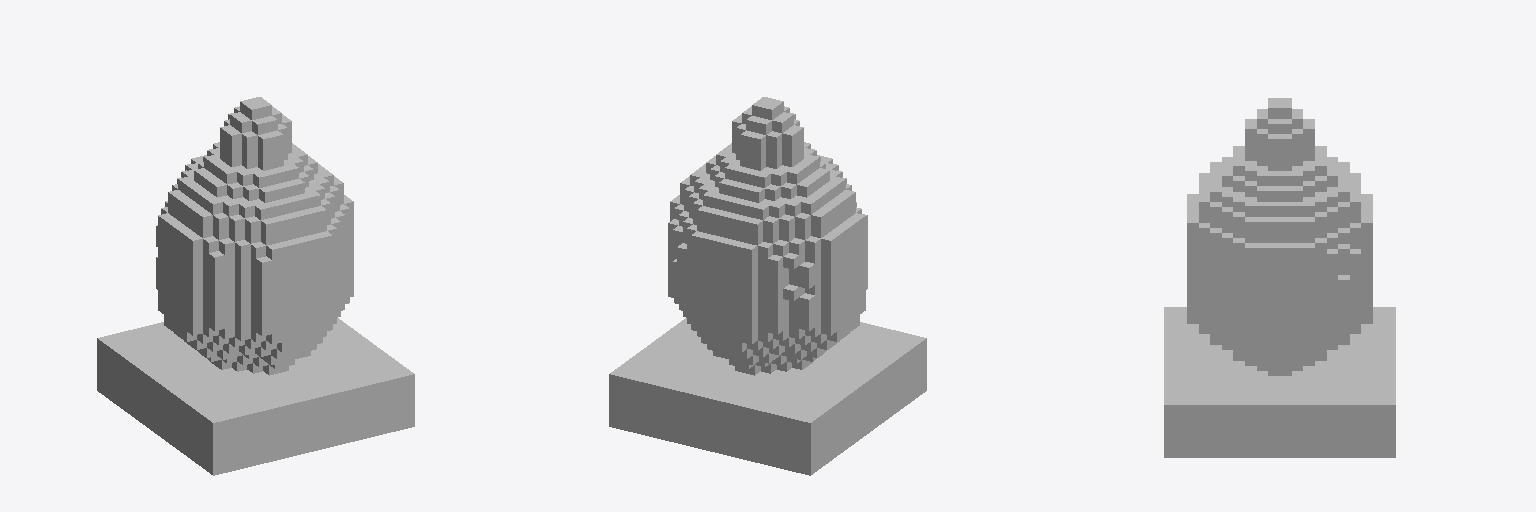
The model's file is alchemical silver.obj.
3 views of the same model, side by side, from view 1: azimuth 30°, elevation 25°; view 2: azimuth 150°, elevation 25°; view 3: azimuth 270°, elevation 25° (orthographic).
Parts seen in each view (by area): view 1: alchemical_silver_alchemical_silver.009; view 2: alchemical_silver_alchemical_silver.009; view 3: alchemical_silver_alchemical_silver.009.
Boxes of the visible parts, box(x1,y1,x2,y2) form: alchemical_silver_alchemical_silver.009: box(97, 97, 414, 475); alchemical_silver_alchemical_silver.009: box(609, 97, 926, 475); alchemical_silver_alchemical_silver.009: box(1164, 98, 1395, 457).
Bounding box in the file's own units: 1 × 1.45 × 1.